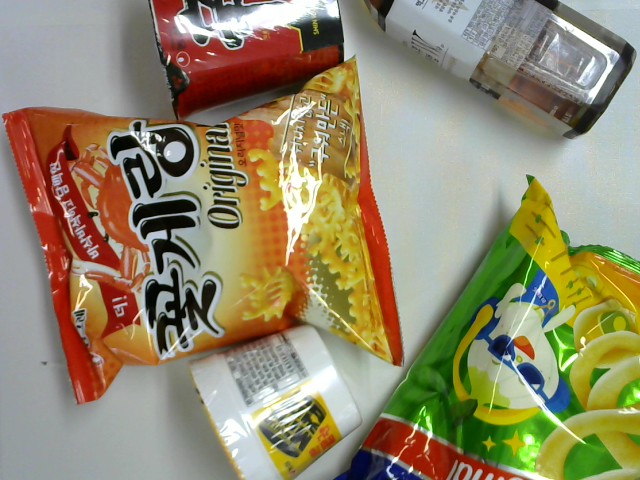Crabrang: (2, 50, 406, 406)
Hejangmini: (186, 322, 365, 480)
Oninon_Ring: (328, 172, 640, 480)
Post-meal_recipe_W_tea_500ml: (360, 1, 638, 143)
Sinramen_small: (146, 1, 348, 125)
